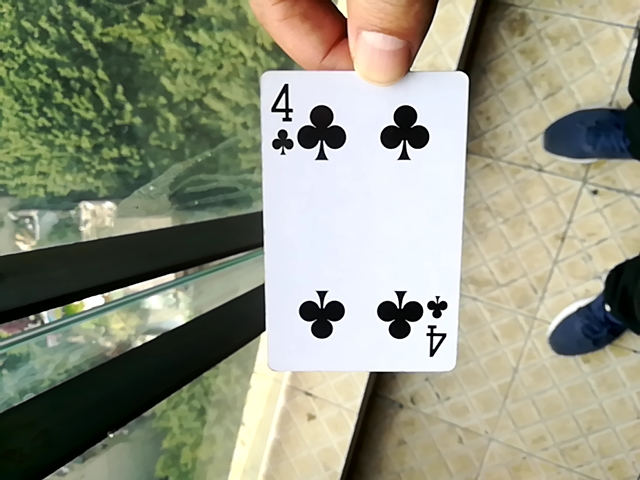mh 4: (248, 67, 461, 384)
